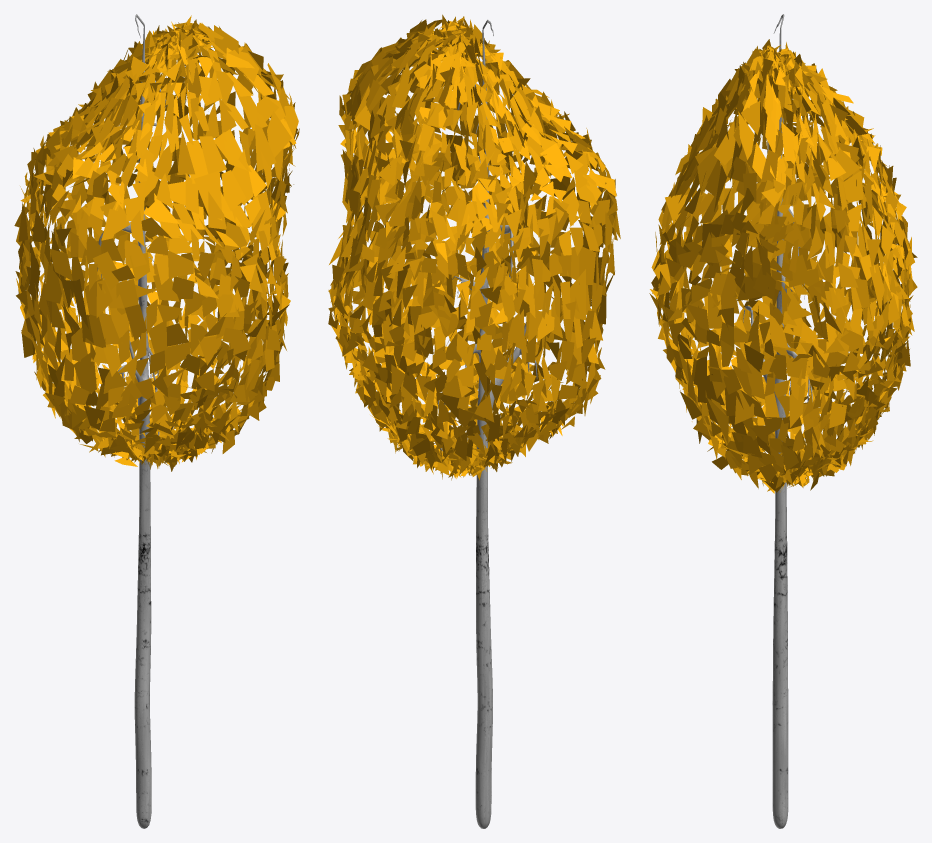
File: Leaves43.001.fbx
The picture shows the model from 3 angles, left to right: view 1: azimuth 30°, elevation 25°; view 2: azimuth 150°, elevation 25°; view 3: azimuth 270°, elevation 25°; orthographic projection.
Visible parts, largest first — view 1: Leaves43.001; view 2: Leaves43.001; view 3: Leaves43.001.
Part boxes in pixels (x1,y1,x2,y2): Leaves43.001: [14, 14, 299, 828]; Leaves43.001: [328, 14, 620, 828]; Leaves43.001: [649, 14, 917, 828].
Bounding box in the file's own units: 873 × 2612 × 783.
Materials: 2 (1 with a texture image).
